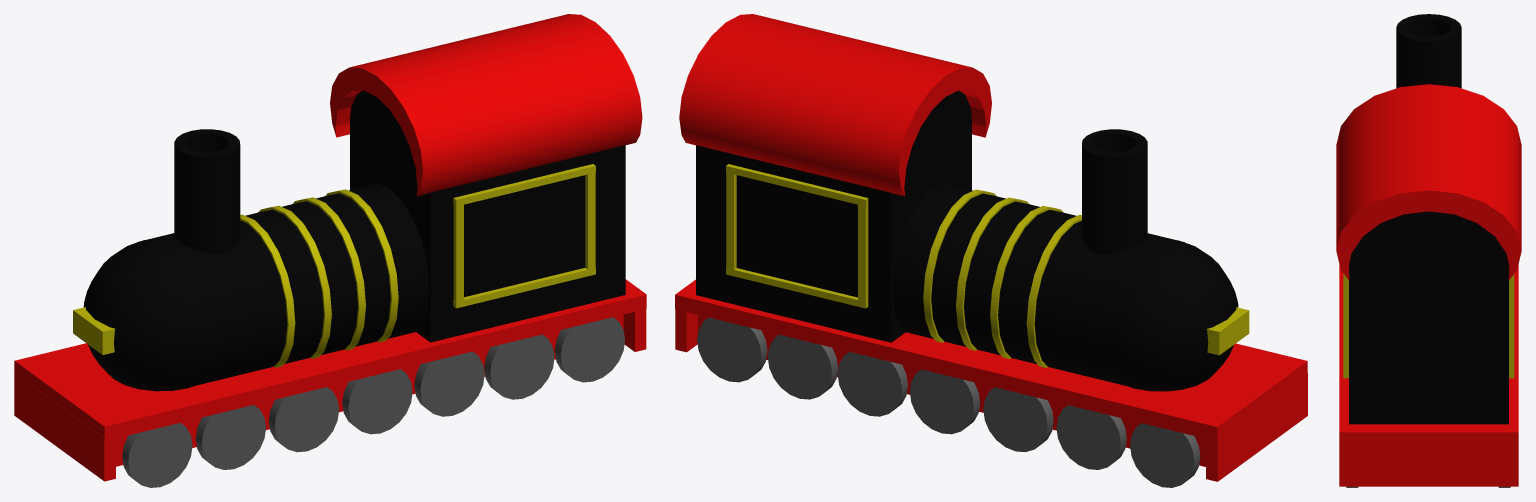
The model's file is Locomotive.fbx.
3 renders of one model, left to right at view 1: azimuth 30°, elevation 25°; view 2: azimuth 150°, elevation 25°; view 3: azimuth 270°, elevation 25°, orthographic.
Parts seen in each view (by area): view 1: pCube22; view 2: pCube22; view 3: pCube22.
Boxes of the visible parts, bbox=[...] form: pCube22: bbox=[14, 14, 646, 487]; pCube22: bbox=[675, 14, 1307, 487]; pCube22: bbox=[1336, 14, 1521, 487].
Bounding box in the file's own units: 16.31 × 9.14 × 4.86.
